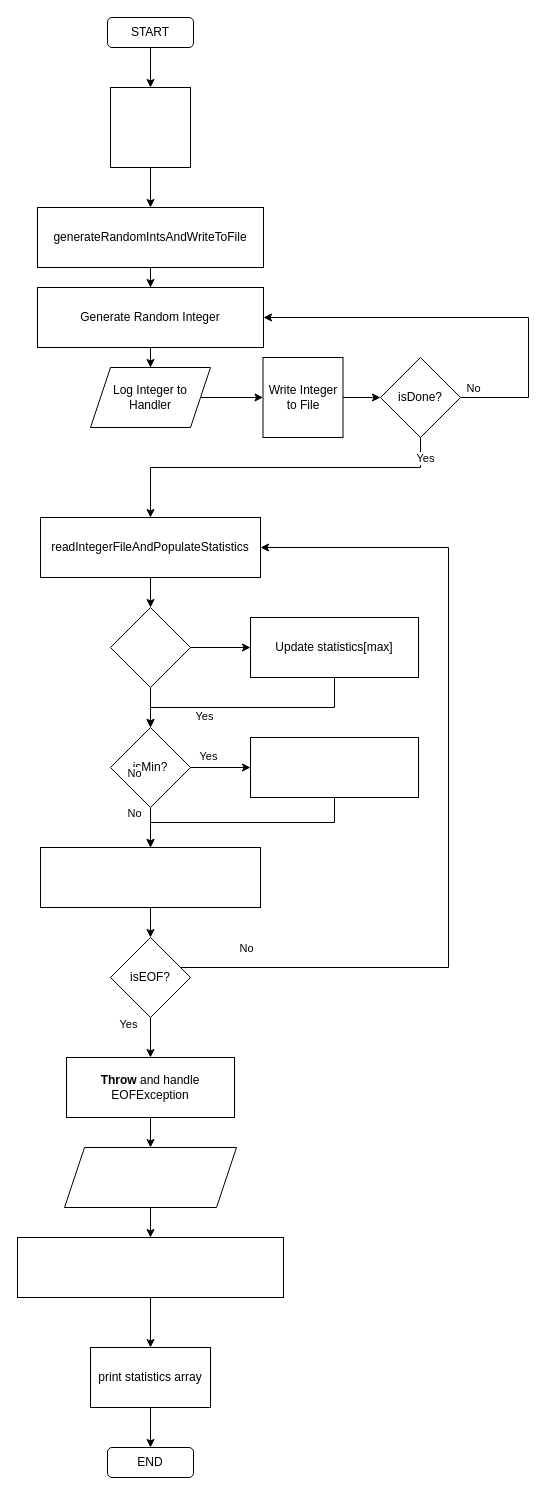
Some shapes in this 554 by 1495 pixel diagram are drawn without their labels. Each missing label, with the centre of its shape:
"computeMeanOfIntStreamAndUpdateStatistics" belongs at point 150,1267.
"incrementSumAndUpdateStatistics statistics[sum]" belongs at point 150,877.
"Initialize Defaults" belongs at point 150,127.
"isMax?" belongs at point 150,647.
"Log Completed Reading File" belongs at point 150,1177.
"Update statistics[min]" belongs at point 334,767.
